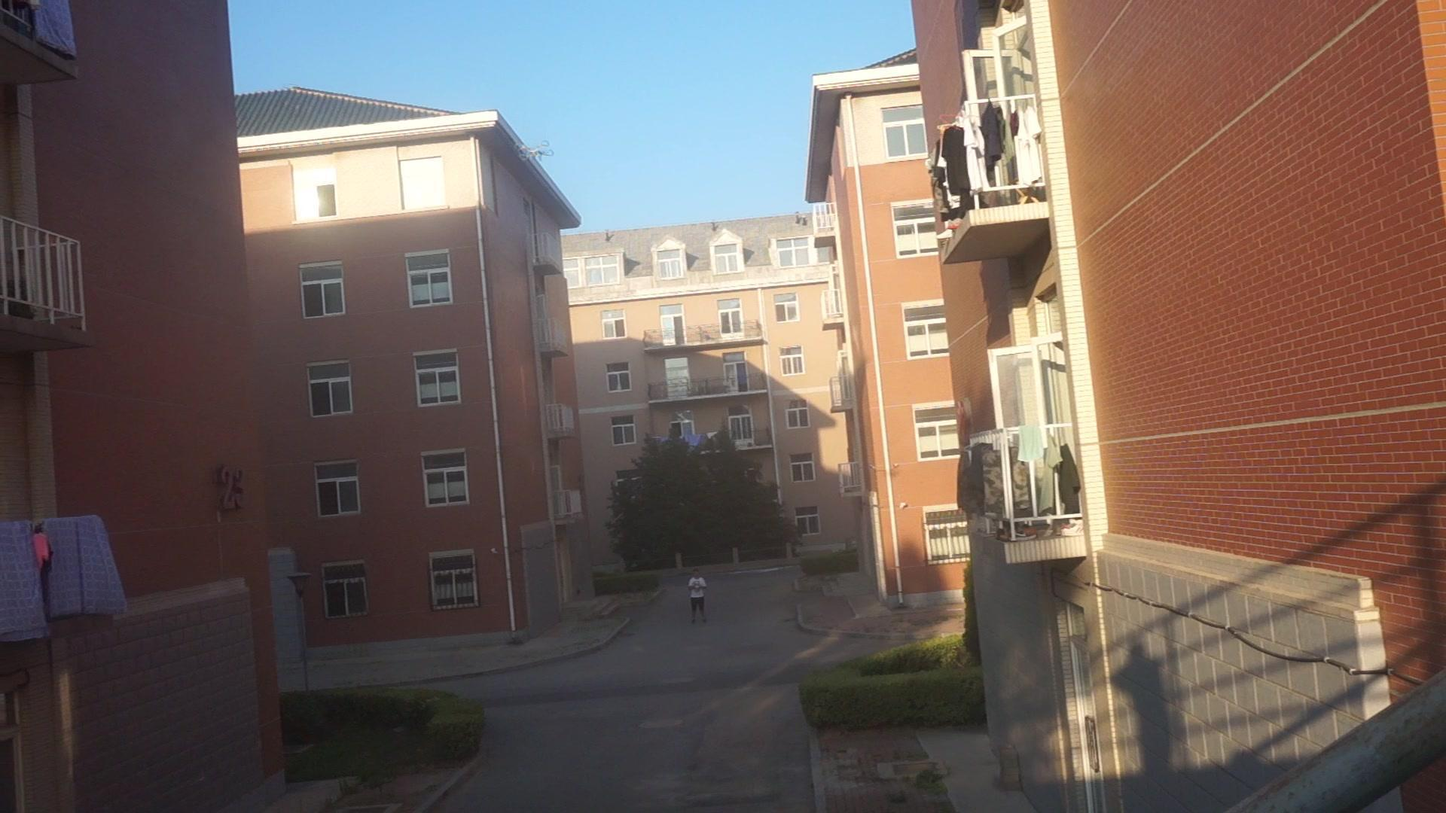UAV: (513, 141, 555, 162)
